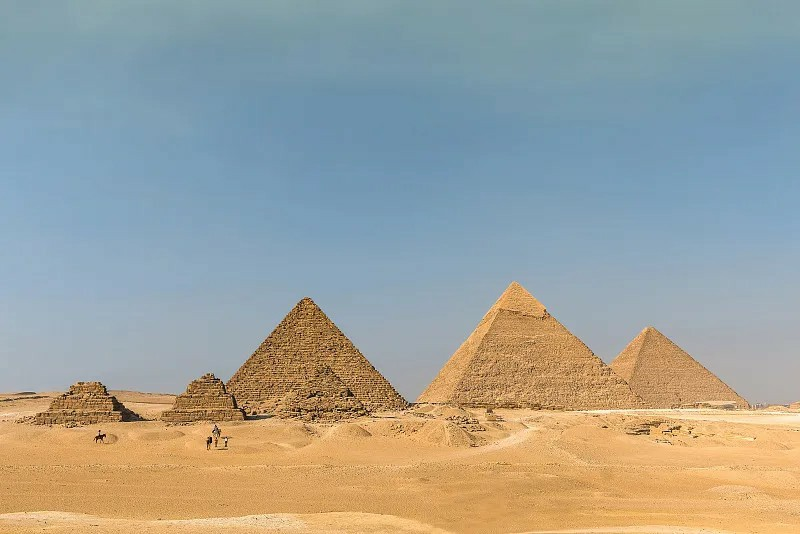Pyramid: (410, 282, 648, 410), (223, 298, 409, 412), (608, 325, 745, 408), (275, 366, 373, 419), (161, 373, 248, 423), (35, 382, 131, 426)
